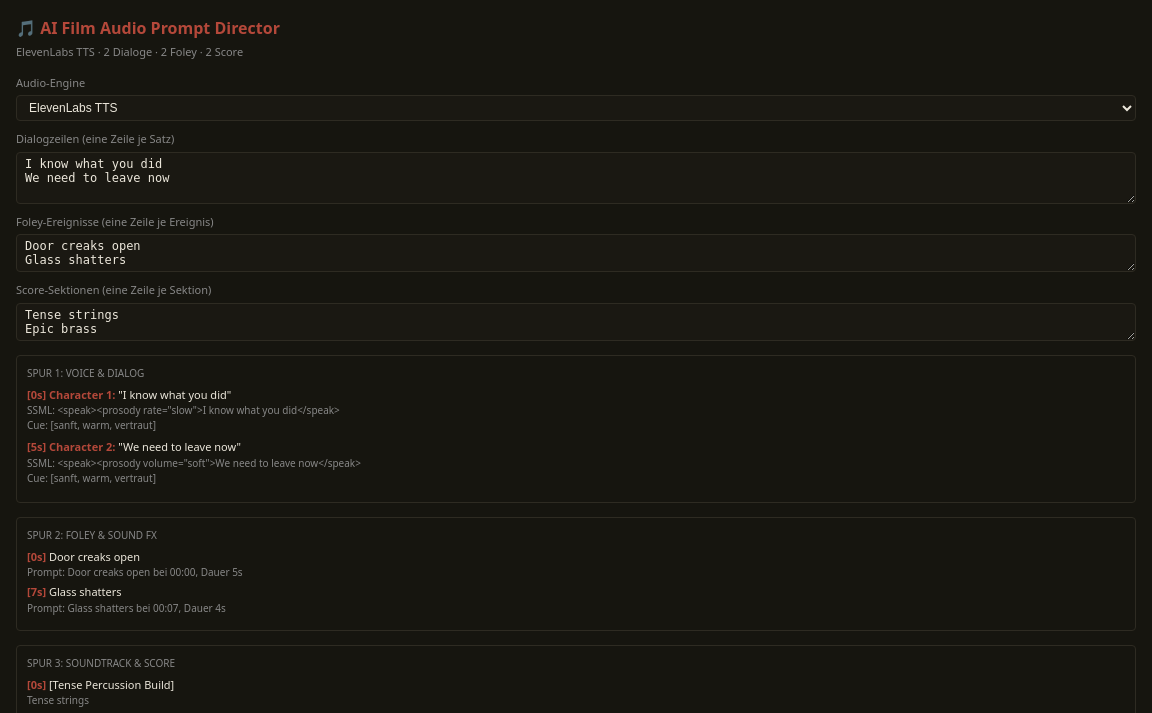
it: AiFilmAudioPromptGeneratorModal › reagiert auf Score-Eingabe
Step 1. Replace the text in the text box with test id "audio-score-input" with "New score" → coordinates (576, 322), box [16, 302, 1136, 340]
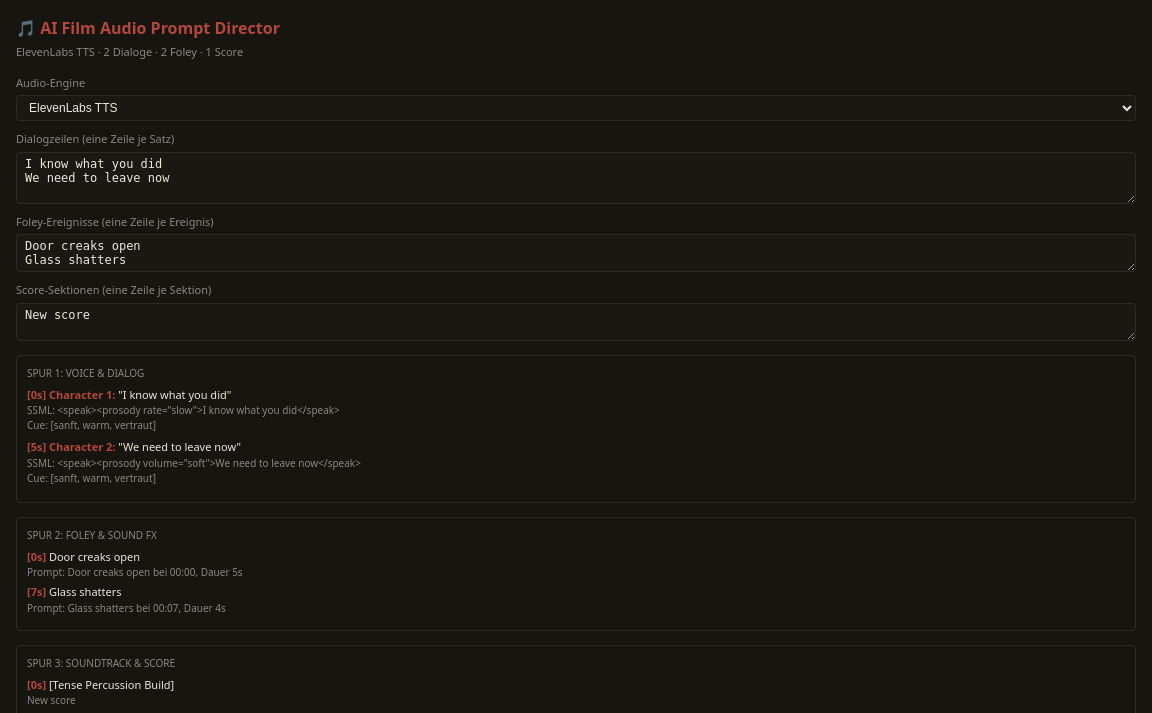
Now the element with test id "audio-score-0" shows "New score", box [27, 693, 76, 707]
